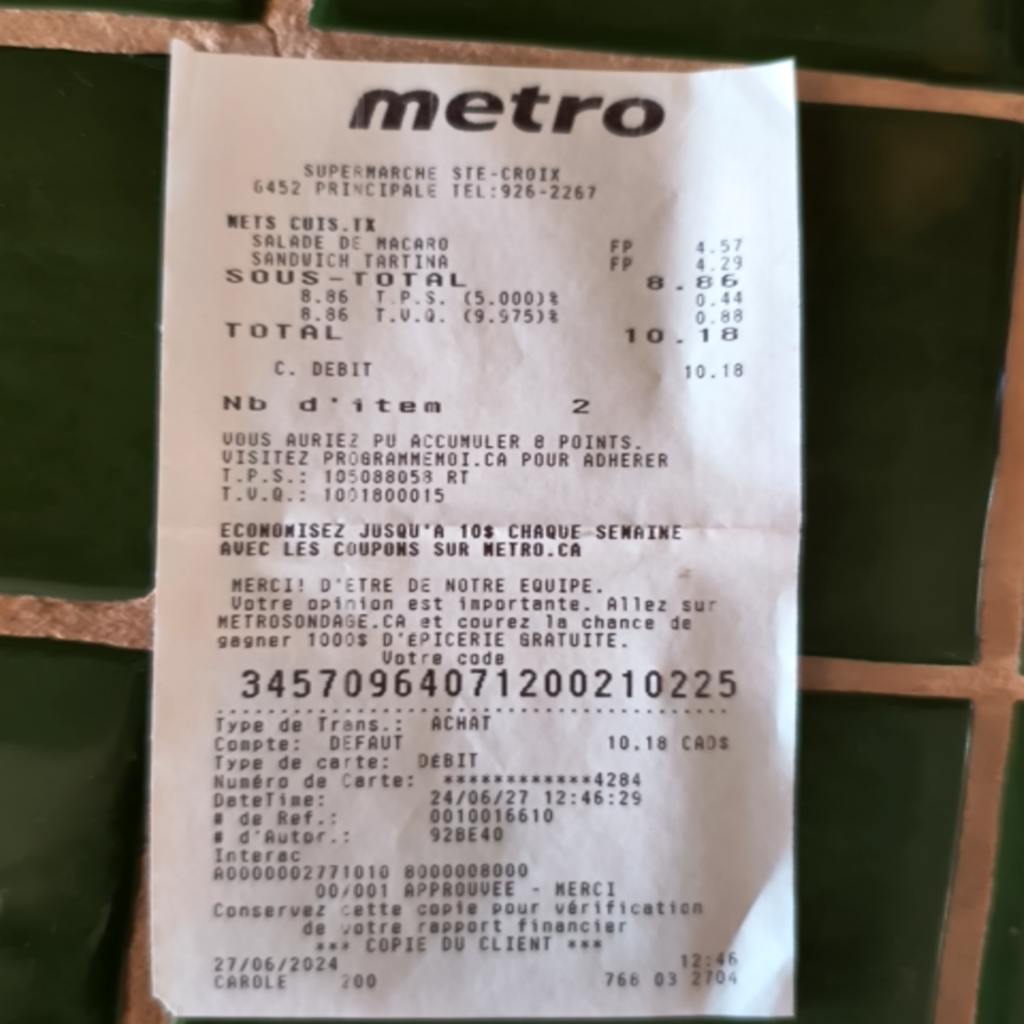recipt: (149, 50, 802, 1018)
